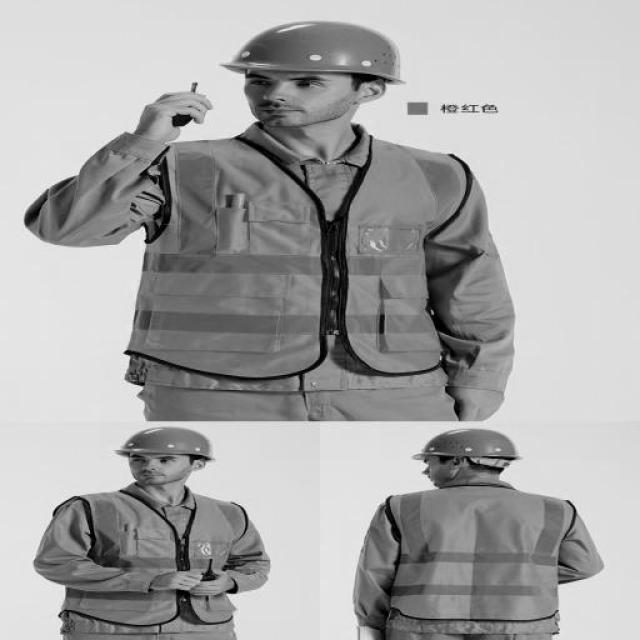face_nomask: (240, 70, 332, 122), (128, 450, 184, 486)
hand_noglove: (134, 85, 220, 146), (156, 566, 207, 598), (188, 564, 234, 598)
head_helmet: (218, 14, 408, 92), (413, 423, 527, 466), (115, 423, 217, 467)
person: (41, 13, 524, 418), (347, 414, 602, 640), (22, 422, 284, 640)
vest: (123, 121, 497, 388), (42, 491, 264, 629), (378, 494, 573, 620)
